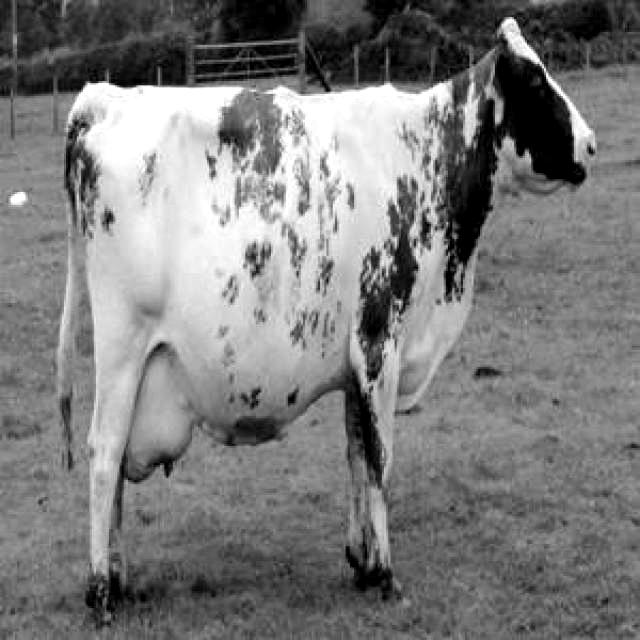COW: (60, 20, 596, 621)
